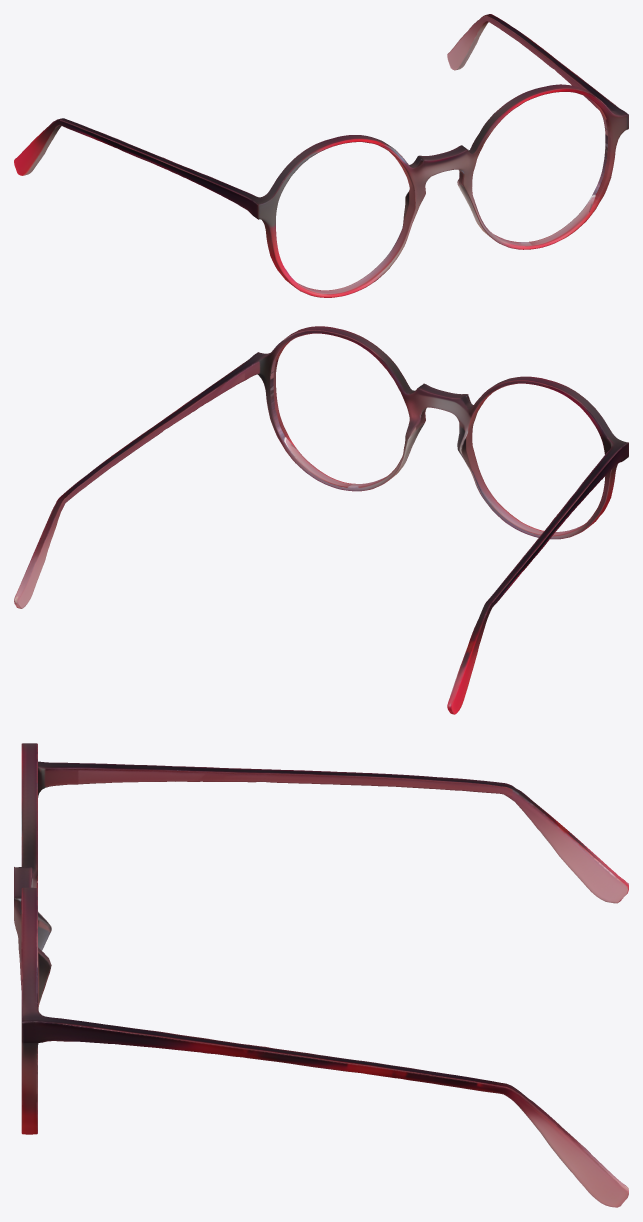
Rendered from glasses.glb.
3 views of the same model, one above another, from view 1: azimuth 30°, elevation 25°; view 2: azimuth 150°, elevation 25°; view 3: azimuth 270°, elevation 25° (orthographic). The views are drawn at different scales.
Parts seen in each view (by area): view 1: model; view 2: model; view 3: model.
Boxes of the visible parts, x1,y1,x2,y2 form: model: (14, 14, 628, 297); model: (14, 326, 628, 714); model: (14, 743, 628, 1207).
Bounding box in the file's own units: 1.9 × 0.6469 × 1.6.
1 material, 1 textured.
